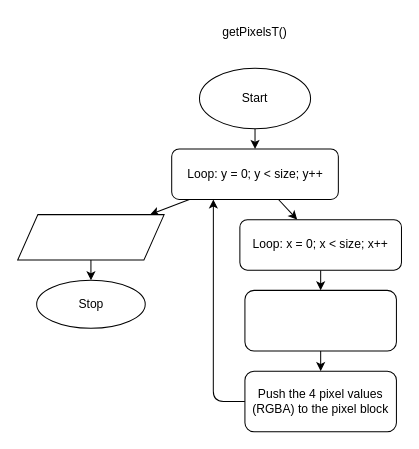
This 419x449 diagram has some shape labels left out. The shapes that lost their labels are listed below. From the top down, each one's centre as x and y in pixels, then its label:
At (x=90, y=237): "Return pixel block".
At (x=320, y=320): "Find index of the pixels in the pixel array".
